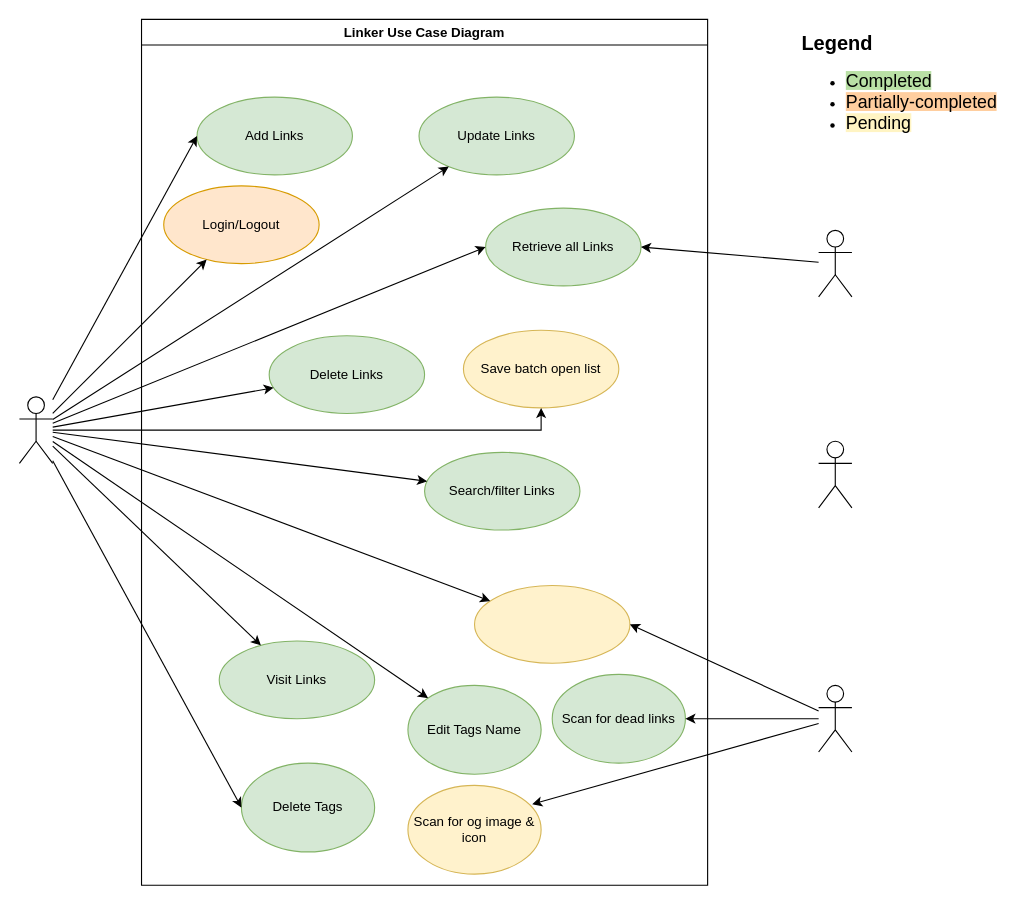
This 1027x905 diagram has some shape labels left out. Each missing label, with the centre of its shape:
"Admin" belongs at point 835,474.
"Gets random suggestion" belongs at point 551,623.
"Guest" belongs at point 835,263.
"System" belongs at point 835,718.
"User" belongs at point 35,429.
